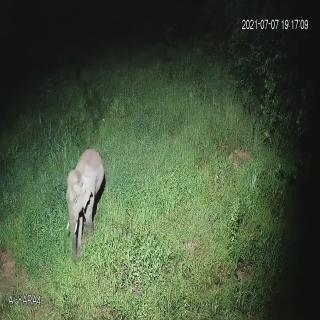Elephant: (64, 132, 106, 268)
